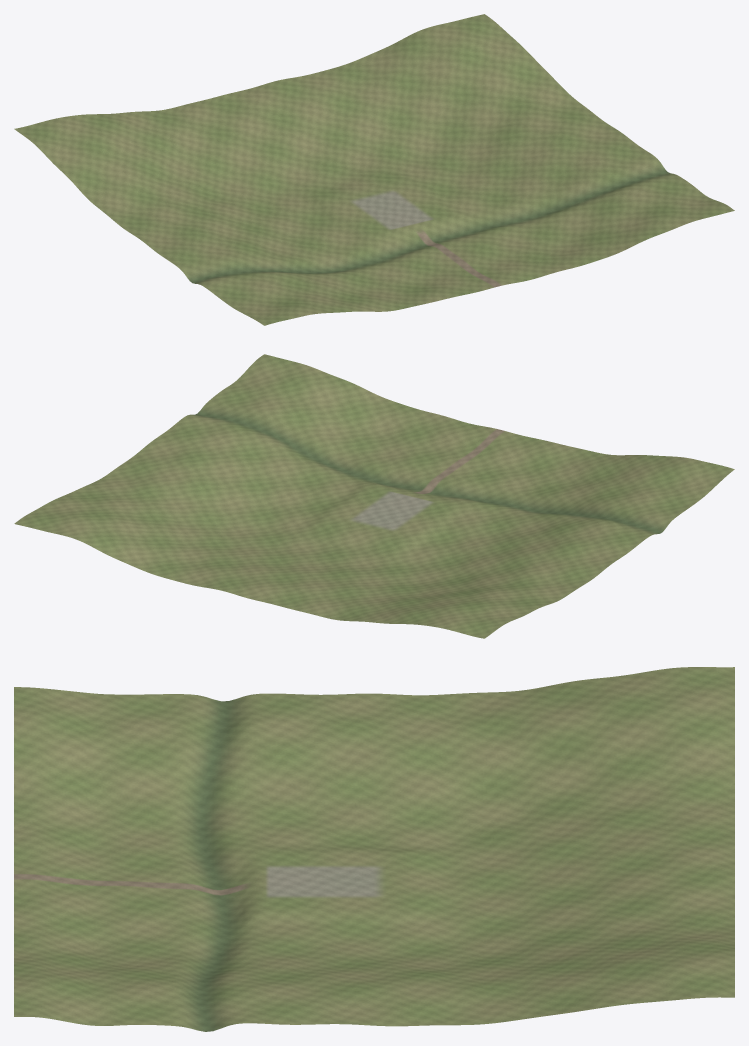
File: Ground.gltf
3 renders of one model, top to bottom at view 1: azimuth 30°, elevation 25°; view 2: azimuth 150°, elevation 25°; view 3: azimuth 270°, elevation 25°, orthographic. The views are drawn at different scales.
Visible parts, largest first — view 1: Ground; view 2: Ground; view 3: Ground.
Part boxes in pixels (x1,y1,x2,y2): Ground: [14, 14, 734, 325]; Ground: [14, 354, 734, 638]; Ground: [14, 667, 734, 1031].
Bounding box in the file's own units: 153 × 13.24 × 141.
Materials: 1 (1 with a texture image).
